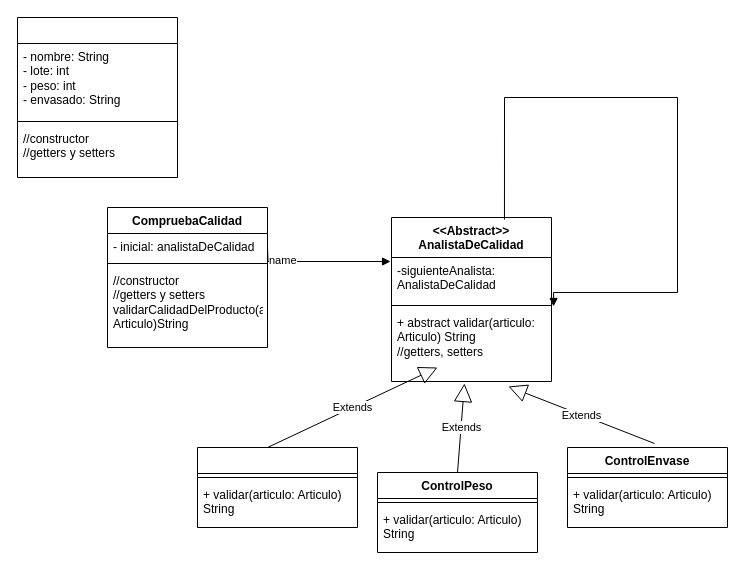
The diagram is 745 pixels wide and 573 high, and some of its shapes have lost their labels. The box of each missing label's shape, as (x1, y1, x2, y2) in pixels:
Articulo: (16, 16, 178, 178)
ControlLote: (196, 446, 358, 528)
